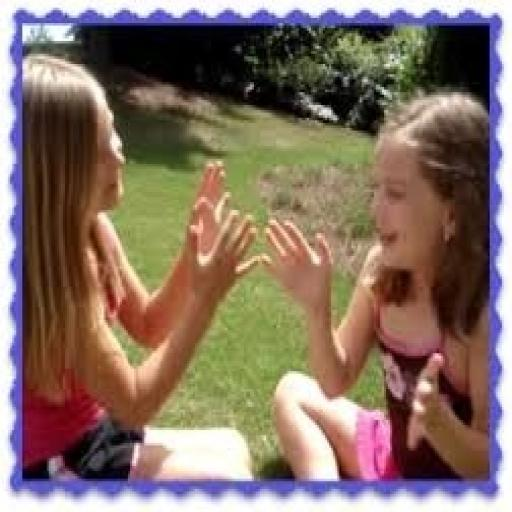clapping: (22, 48, 260, 484), (260, 87, 490, 481)
